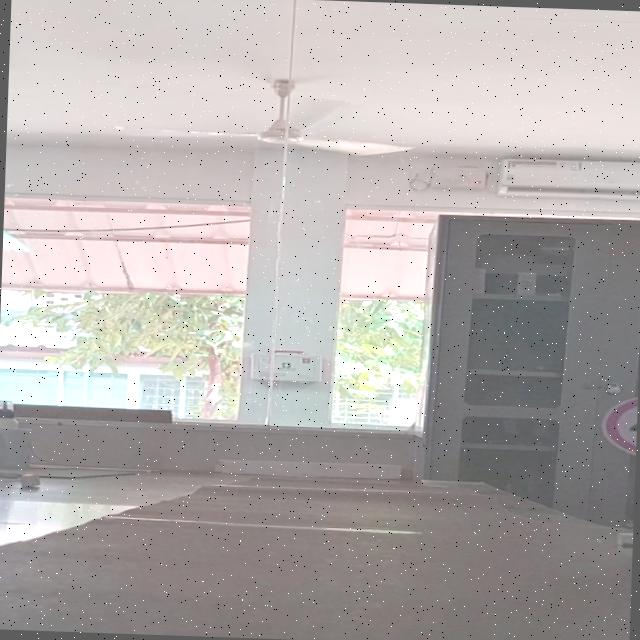Speed40: (600, 388, 638, 458)
